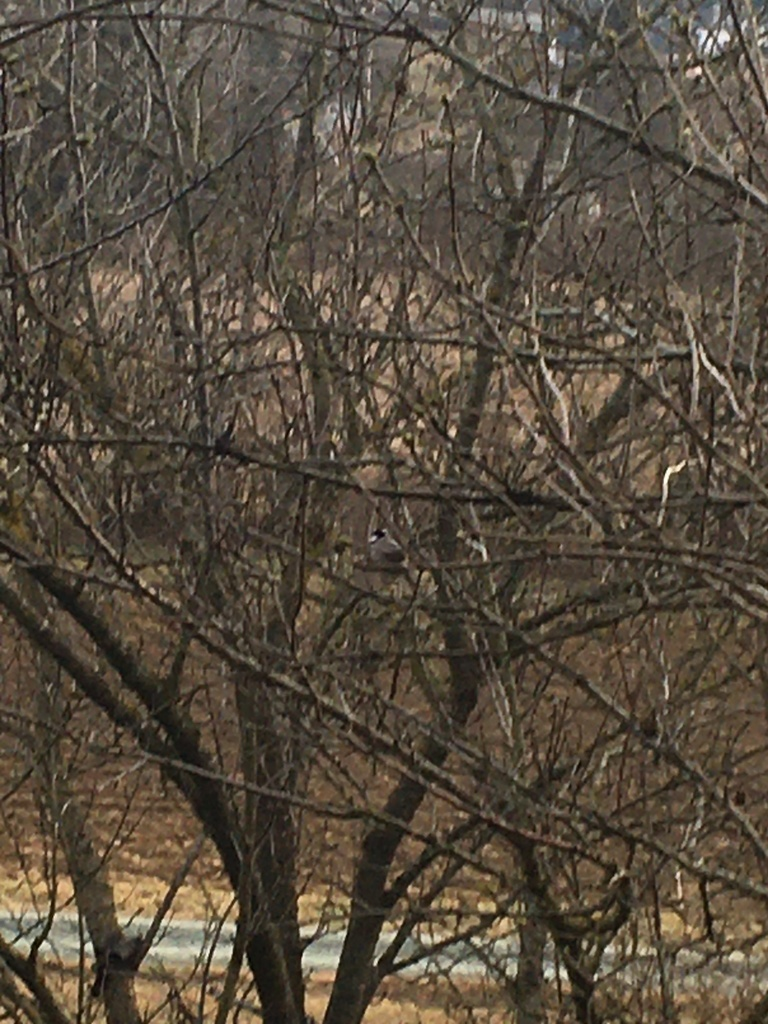Periparus_ater: (367, 526, 405, 565)
